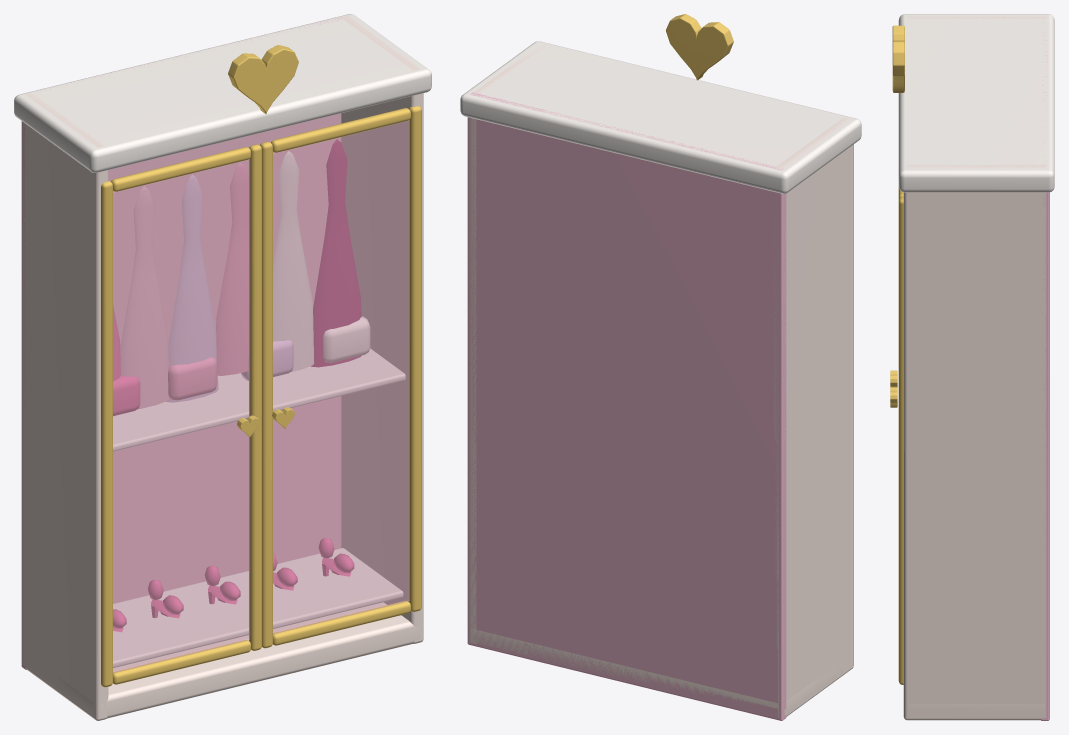
File: wardrobe_glass_lit.glb
The picture shows the model from 3 angles, left to right: view 1: azimuth 30°, elevation 25°; view 2: azimuth 150°, elevation 25°; view 3: azimuth 270°, elevation 25°; orthographic projection. The views are drawn at different scales.
Parts seen in each view (by area): view 1: wardrobe_glass_lit; view 2: wardrobe_glass_lit; view 3: wardrobe_glass_lit.
Boxes of the visible parts, bbox=[...] form: wardrobe_glass_lit: bbox=[14, 14, 431, 720]; wardrobe_glass_lit: bbox=[460, 14, 861, 720]; wardrobe_glass_lit: bbox=[890, 14, 1054, 720].
Bounding box in the file's own units: 1.56 × 2.76 × 0.675.
